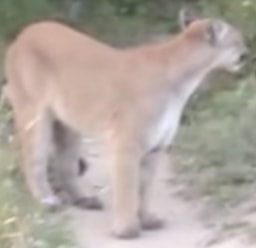Mountain Lion: (10, 5, 255, 239)
